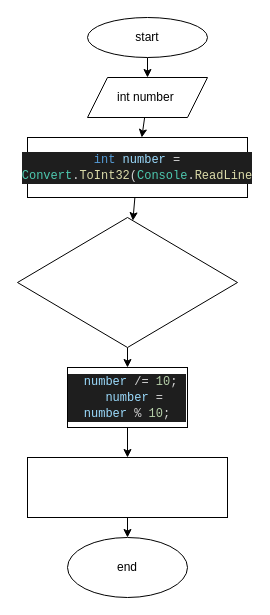
Some shapes in this 270 by 615 pixel diagram are drawn without their labels. Here are the shapes that lost their labels. From the top down, the centre of each, then its label:
(x=127, y=282): if ( 100 <= number && number <= 999 )
(x=127, y=487): Console . WriteLine ( number )
